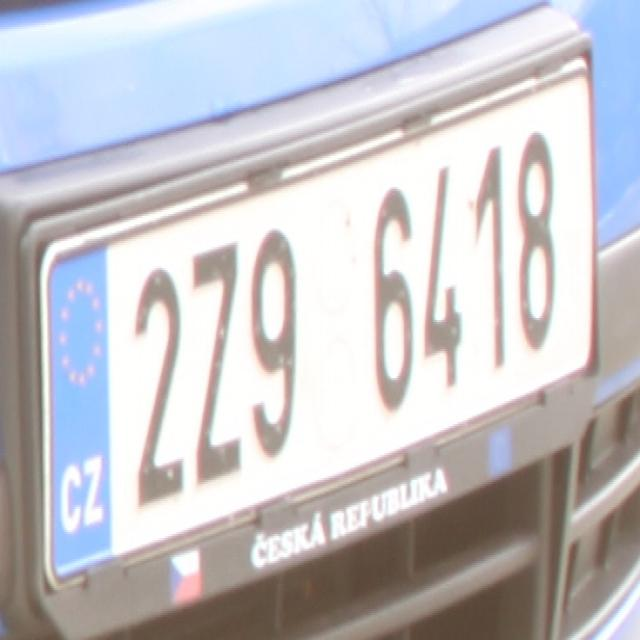1: (472, 147, 510, 370)
2: (135, 266, 182, 505)
4: (422, 166, 465, 389)
6: (371, 185, 415, 420)
8: (513, 127, 556, 351)
9: (250, 224, 296, 463)
Z: (190, 235, 244, 490)
